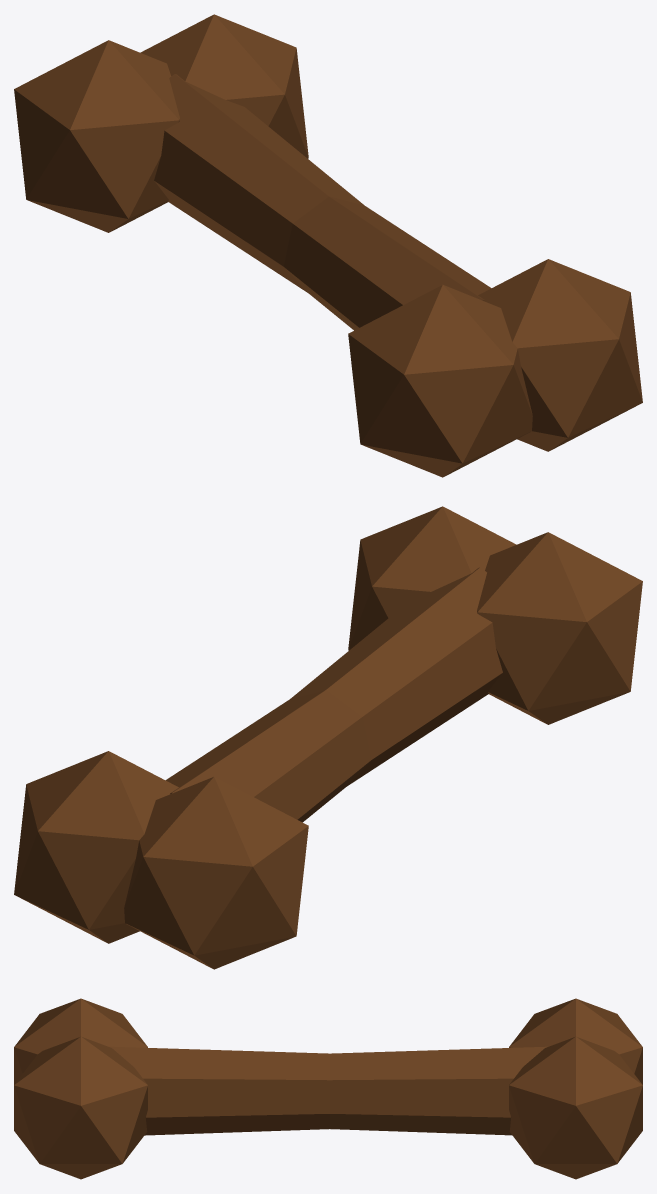
File: DogFood2.fbx
3 views of the same model, one above another, from view 1: azimuth 30°, elevation 25°; view 2: azimuth 150°, elevation 25°; view 3: azimuth 270°, elevation 25° (orthographic). The views are drawn at different scales.
Parts seen in each view (by area): view 1: Cylinder.004, Icosphere.002, Icosphere.001, Icosphere.003, Icosphere; view 2: Cylinder.004, Icosphere.001, Icosphere.002, Icosphere, Icosphere.003; view 3: Cylinder.004, Icosphere, Icosphere.003, Icosphere.001, Icosphere.002.
Boxes of the visible parts, bbox=[...] form: Cylinder.004: bbox=[154, 74, 491, 330]; Icosphere.002: bbox=[348, 285, 532, 477]; Icosphere.001: bbox=[14, 40, 179, 232]; Icosphere.003: bbox=[478, 259, 642, 451]; Icosphere: bbox=[140, 14, 308, 158]; Cylinder.004: bbox=[165, 567, 502, 822]; Icosphere.001: bbox=[124, 777, 308, 969]; Icosphere.002: bbox=[477, 532, 642, 724]; Icosphere: bbox=[14, 751, 178, 943]; Icosphere.003: bbox=[348, 506, 516, 650]; Cylinder.004: bbox=[109, 1046, 547, 1135]; Icosphere: bbox=[509, 1036, 642, 1179]; Icosphere.003: bbox=[14, 1036, 147, 1179]; Icosphere.001: bbox=[509, 998, 642, 1084]; Icosphere.002: bbox=[14, 998, 147, 1084].
Size of the model in its own units: 128 by 87.57 by 349.
